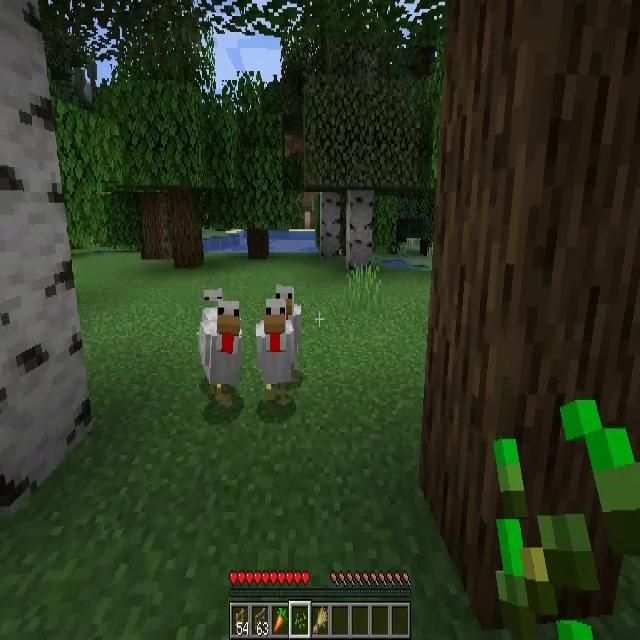duck: (255, 298, 297, 402), (199, 301, 242, 394), (203, 290, 240, 340), (274, 283, 301, 342)
